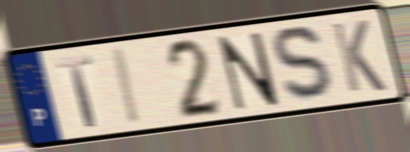2: (166, 37, 225, 120)
I: (112, 45, 145, 128)
K: (328, 17, 390, 95)
N: (215, 29, 282, 113)
S: (270, 23, 341, 105)
T: (53, 53, 100, 130)
